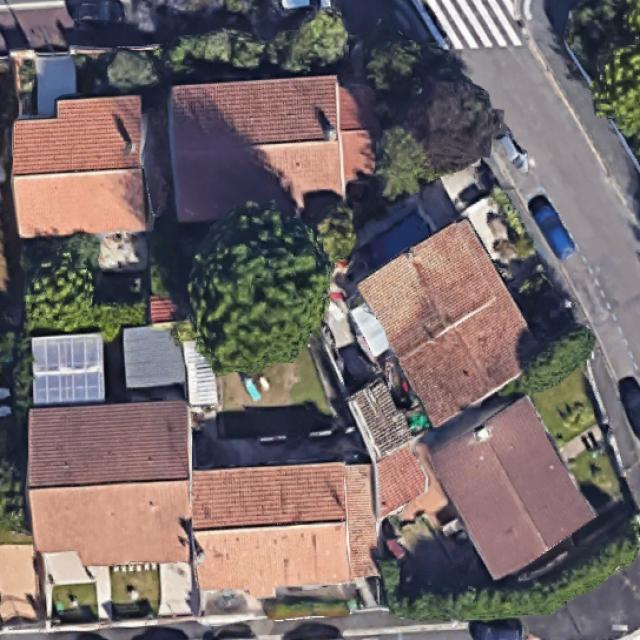maison: (351, 217, 547, 425), (418, 385, 599, 583), (163, 66, 381, 221), (23, 402, 193, 567), (189, 461, 378, 602), (6, 94, 150, 237)
